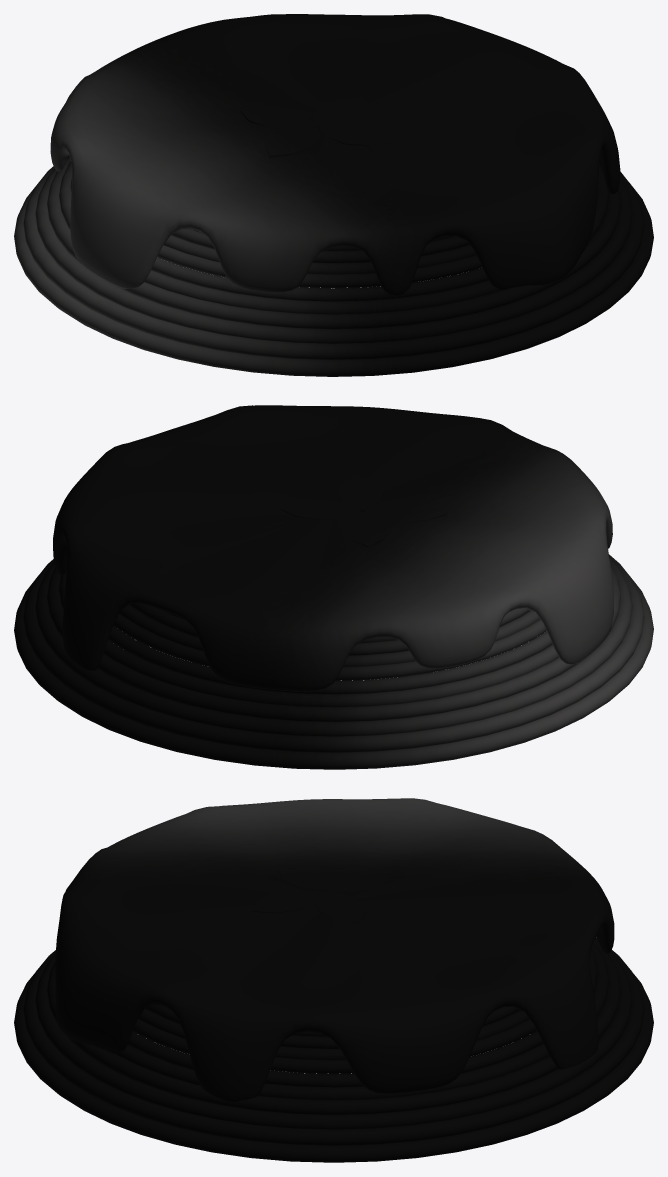
The model's file is SpagBolBurnt.glb.
3 renders of one model, top to bottom at view 1: azimuth 30°, elevation 25°; view 2: azimuth 150°, elevation 25°; view 3: azimuth 270°, elevation 25°, orthographic.
Visible parts, largest first — view 1: SpagBolBurnt; view 2: SpagBolBurnt; view 3: SpagBolBurnt.
Part boxes in pixels (box(x1,y1,x2,y2)): SpagBolBurnt: box(14, 14, 653, 376); SpagBolBurnt: box(14, 405, 653, 769); SpagBolBurnt: box(14, 798, 653, 1162).
Bounding box in the file's own units: 0.397 × 0.0878 × 0.397.
Materials: 1 (1 with a texture image).
